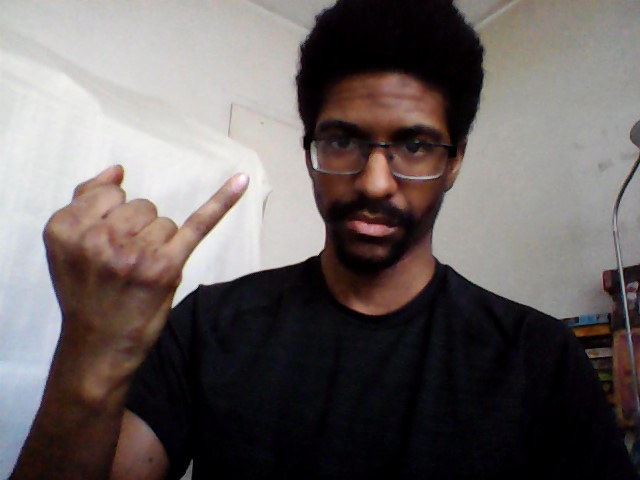j: (39, 157, 255, 385)
